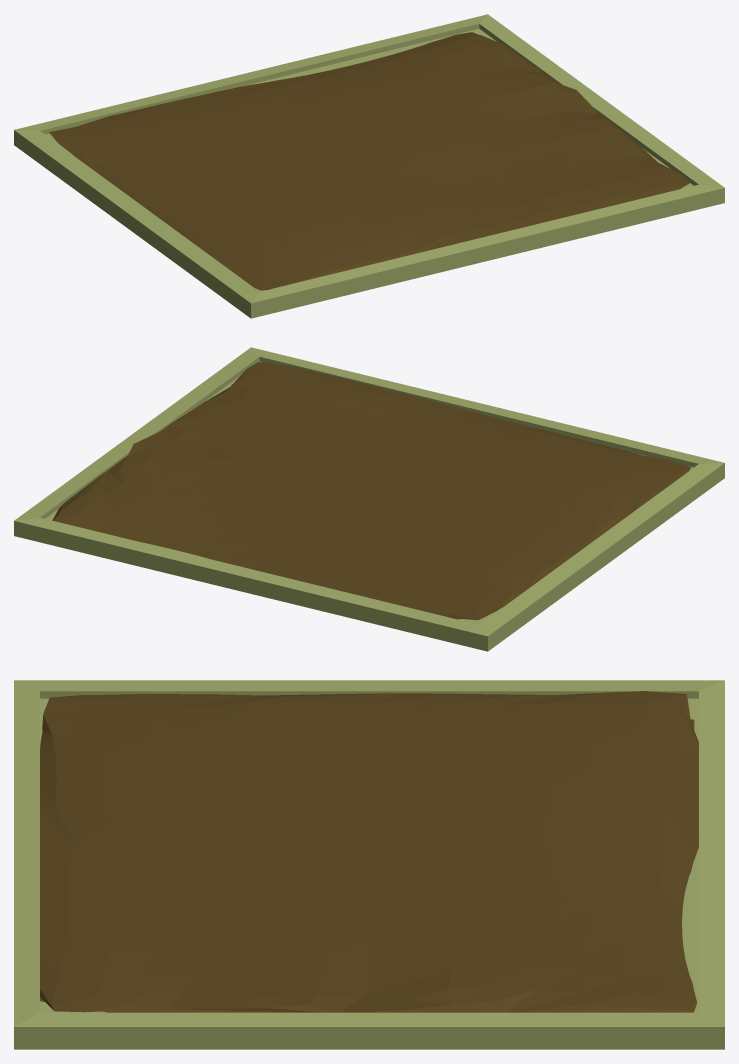
The model's file is грядки до.fbx.
3 renders of one model, top to bottom at view 1: azimuth 30°, elevation 25°; view 2: azimuth 150°, elevation 25°; view 3: azimuth 270°, elevation 25°, orthographic. The views are drawn at different scales.
Visible parts, largest first — view 1: Cube, Cube.001; view 2: Cube, Cube.001; view 3: Cube, Cube.001.
Boxes of the visible parts, x1,y1,x2,y2 form: Cube: (49, 32, 690, 290); Cube.001: (14, 14, 724, 318); Cube: (52, 362, 691, 620); Cube.001: (14, 347, 724, 651); Cube: (40, 691, 698, 1012); Cube.001: (14, 680, 724, 1049).
Size of the model in its own units: 650 by 26.98 by 563.
